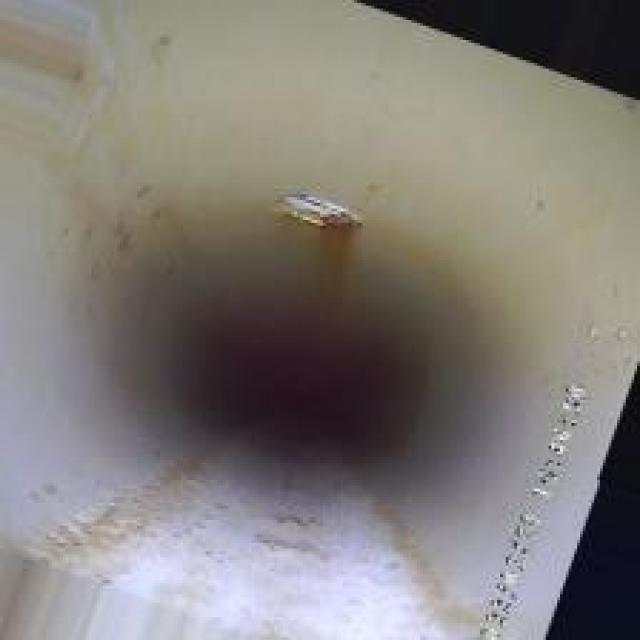ferrule: (266, 186, 366, 234)
